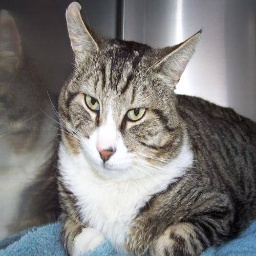cat: (55, 2, 256, 256)
